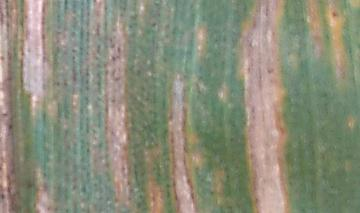tarspot: (331, 10, 340, 19), (7, 124, 16, 131)
